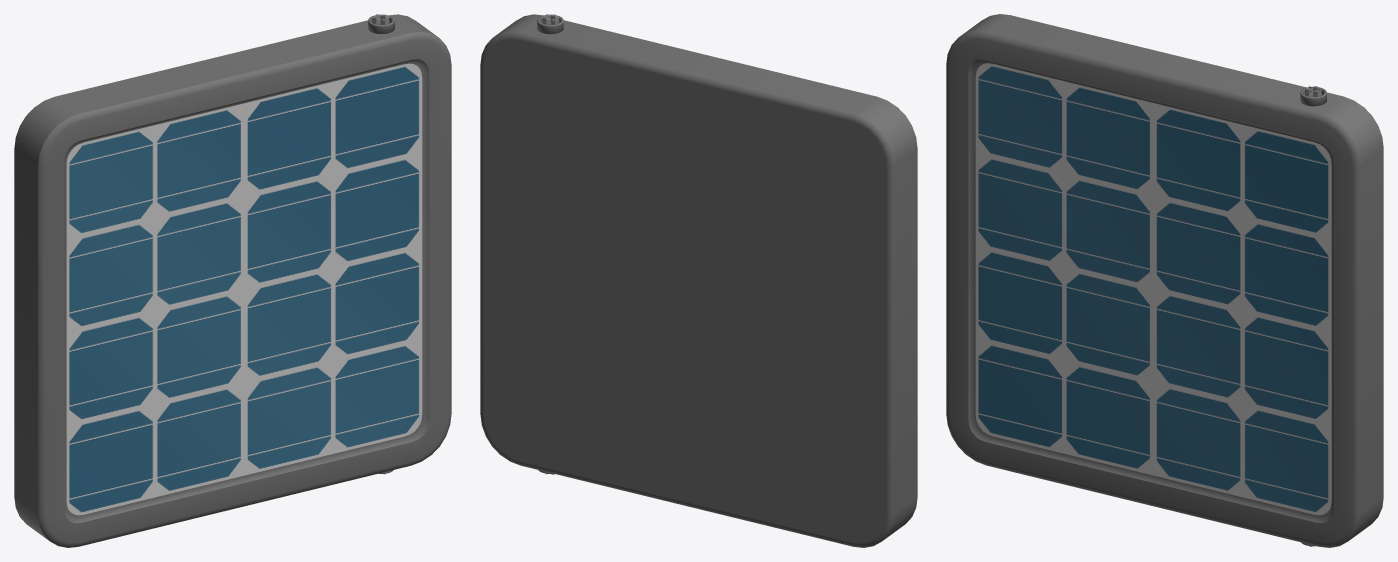
File: solar-panel.glb
3 renders of one model, left to right at view 1: azimuth 30°, elevation 25°; view 2: azimuth 150°, elevation 25°; view 3: azimuth 330°, elevation 25°, orthographic.
Visible parts, largest first — view 1: Cube; view 2: Cube; view 3: Cube.
Part boxes in pixels (bbox=[...]): Cube: bbox=[14, 14, 451, 547]; Cube: bbox=[480, 14, 917, 547]; Cube: bbox=[946, 14, 1383, 547].
Bounding box in the file's own units: 2 × 2.1 × 0.231.
Materials: 3 (1 with a texture image).
